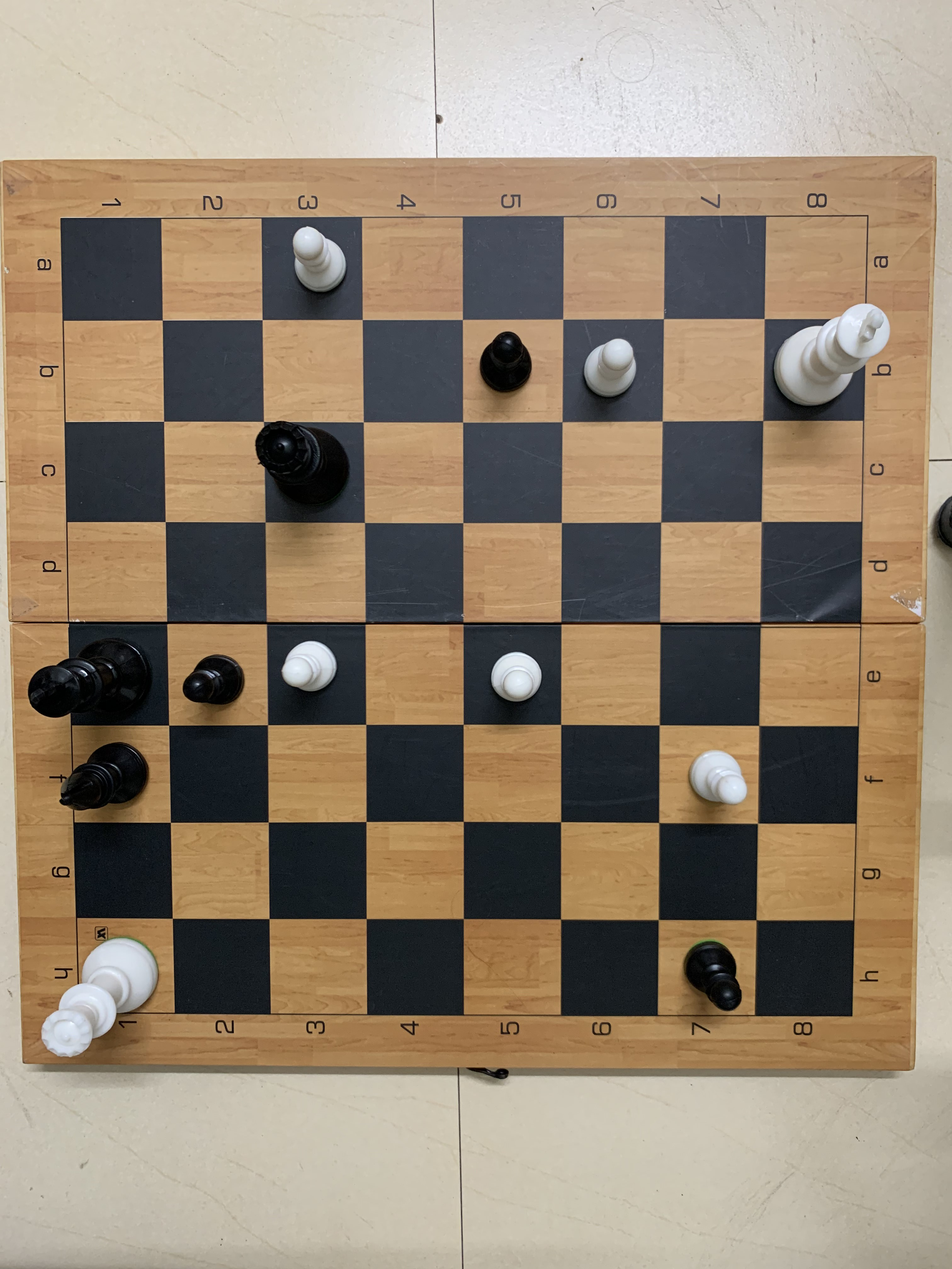black_bishop: (49, 732, 167, 822)
black_king: (23, 630, 165, 727)
black_pawn: (673, 932, 759, 1019), (475, 327, 541, 407), (182, 648, 252, 720)
black_queen: (237, 415, 363, 519)
white_king: (762, 295, 902, 413)
white_pawn: (677, 736, 754, 812), (576, 327, 647, 407), (290, 218, 358, 300), (483, 639, 553, 714), (276, 628, 341, 705)
white_queen: (30, 917, 165, 1067)
